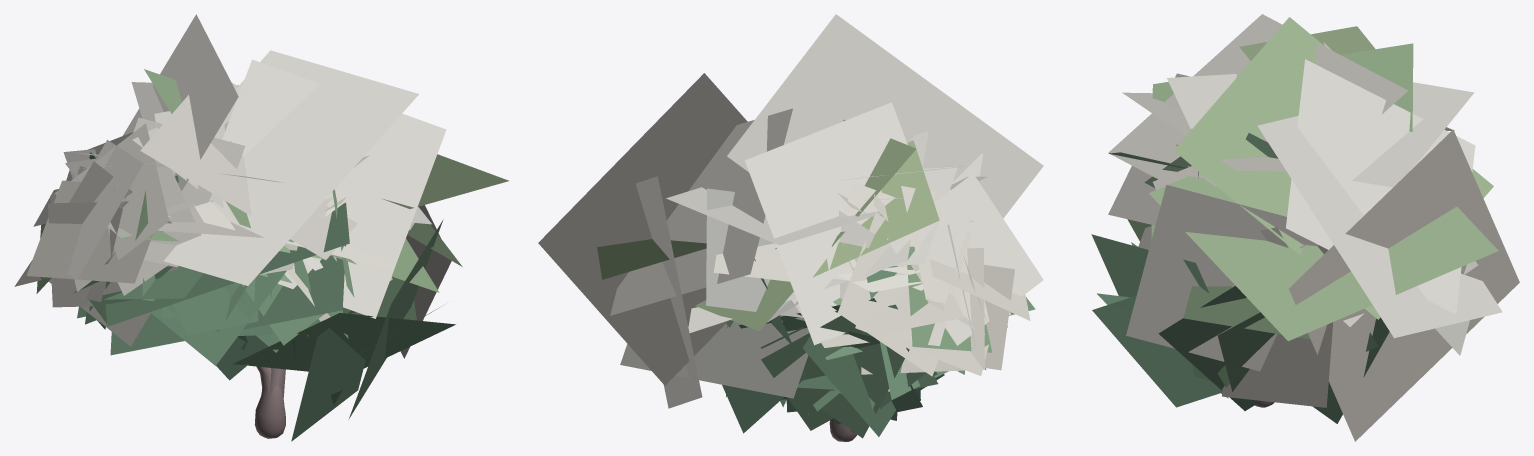
File: hawthorn_v2.glb
3 views of the same model, side by side, from view 1: azimuth 30°, elevation 25°; view 2: azimuth 150°, elevation 25°; view 3: azimuth 270°, elevation 25° (orthographic). The views are drawn at different scales.
Visible parts, largest first — view 1: far, near; view 2: far, near; view 3: far, near.
Part boxes in pixels (x1,y1,x2,y2): far: (73, 14, 508, 399); near: (14, 100, 462, 441); far: (538, 14, 1043, 433); near: (706, 138, 1043, 441); far: (1108, 14, 1519, 441); near: (1091, 26, 1478, 423).
Size of the model in its own units: 9.5 by 7.16 by 7.56.
